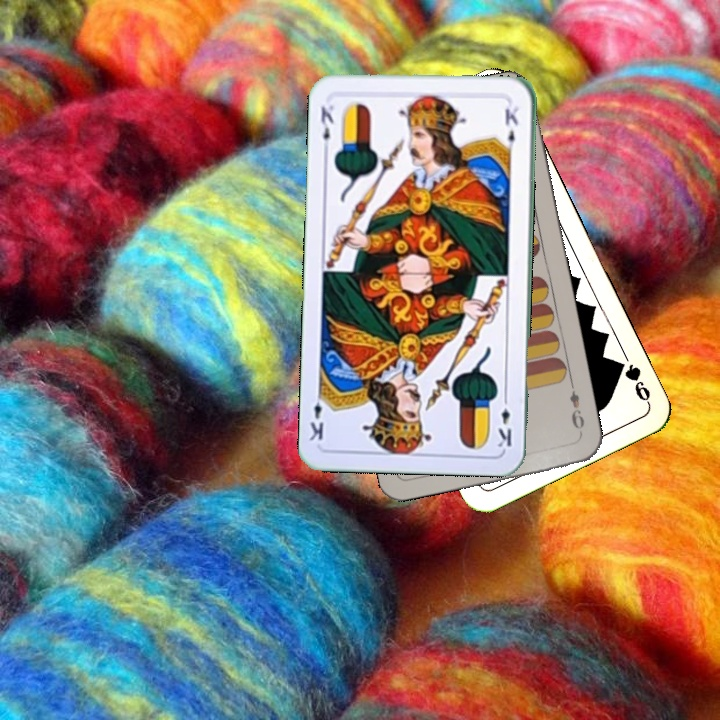E9: (566, 379, 587, 439)
EK: (494, 391, 514, 450), (317, 96, 337, 155)
G9: (611, 356, 653, 407)
